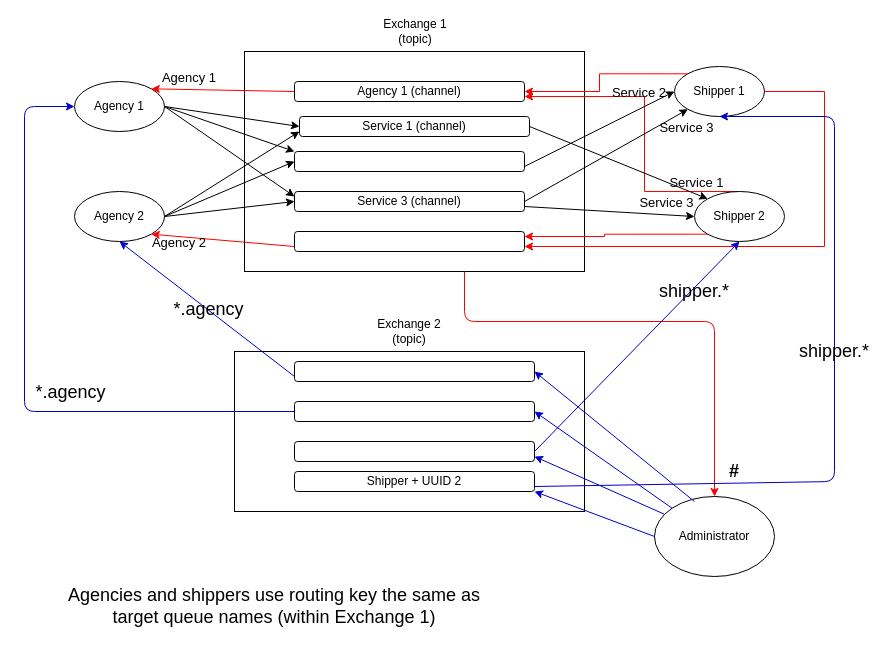
Image size: 887x649. Some labels were removed from this diagram. The centre of each missing label's shape, as x and y in pixels:
Agency + UUID 1: the point at 414,411
Agency + UUID 2: the point at 414,371
Agency 2 (channel): the point at 409,241
Service 2 (channel): the point at 409,161
Shipper + UUID 1: the point at 414,451
